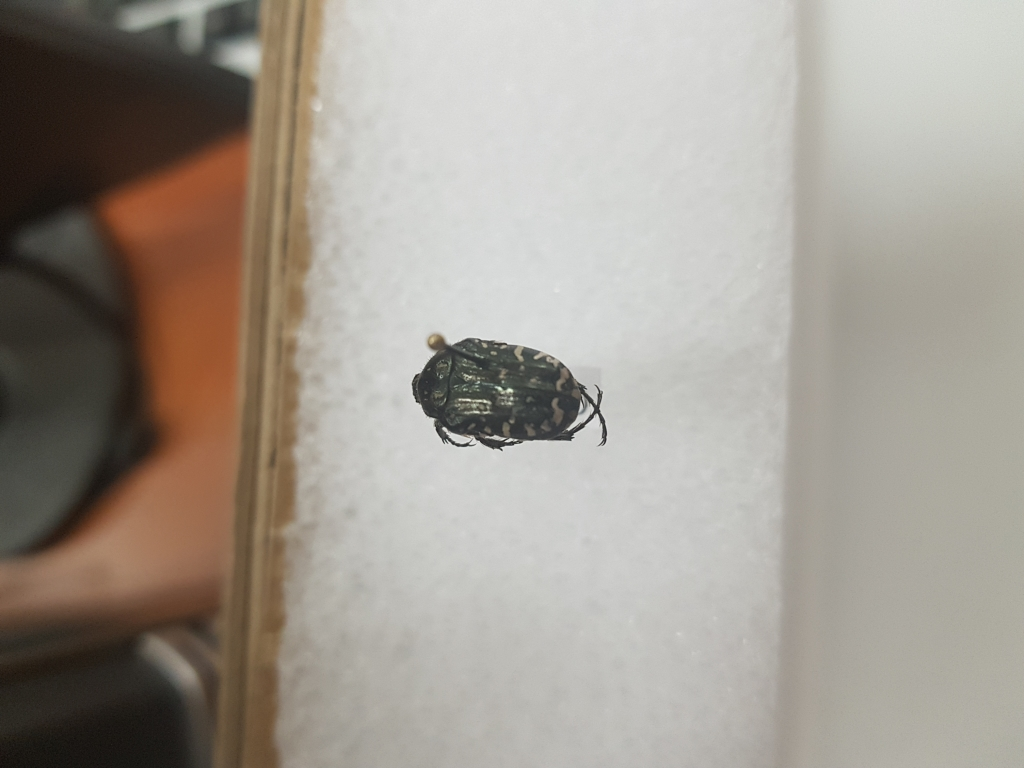Oxythyrea_funesta: (405, 331, 618, 459)
